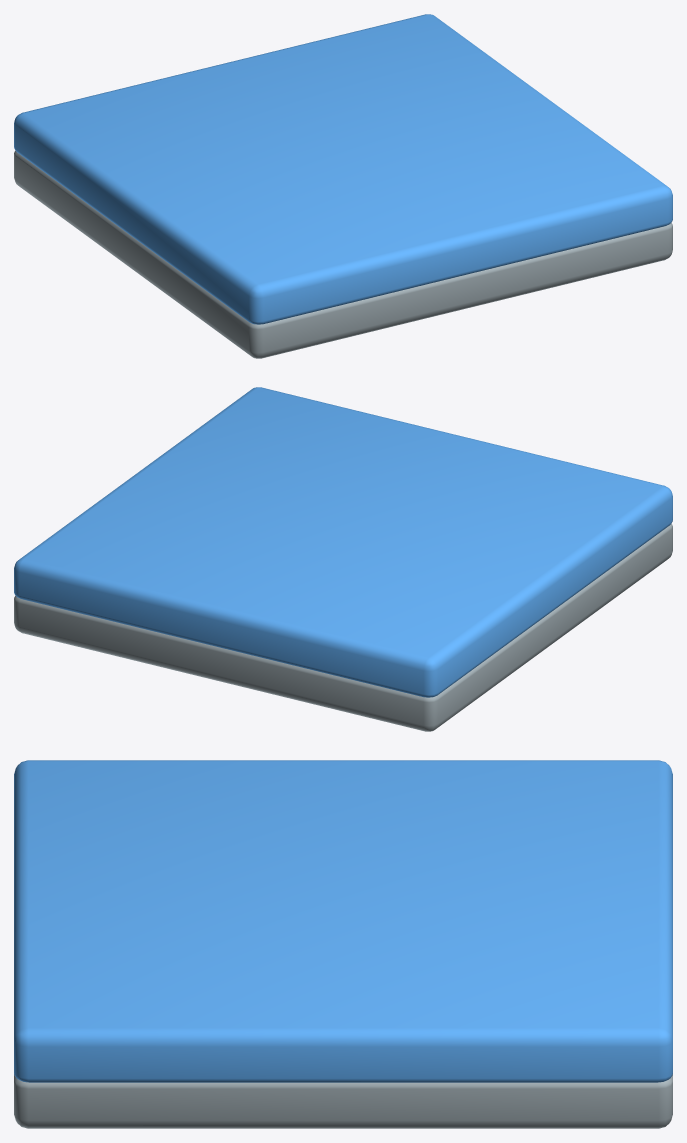
Rendered from tileLarge_teamBlue-col.glb.
3 views of the same model, one above another, from view 1: azimuth 30°, elevation 25°; view 2: azimuth 150°, elevation 25°; view 3: azimuth 270°, elevation 25° (orthographic). The views are drawn at different scales.
Visible parts, largest first — view 1: tileLarge_teamBlue-col; view 2: tileLarge_teamBlue-col; view 3: tileLarge_teamBlue-col.
Boxes of the visible parts, <box> form: tileLarge_teamBlue-col: <box>14,14,672,358</box>; tileLarge_teamBlue-col: <box>14,387,672,731</box>; tileLarge_teamBlue-col: <box>14,760,672,1128</box>.
Size of the model in its own units: 6 by 1 by 6.
